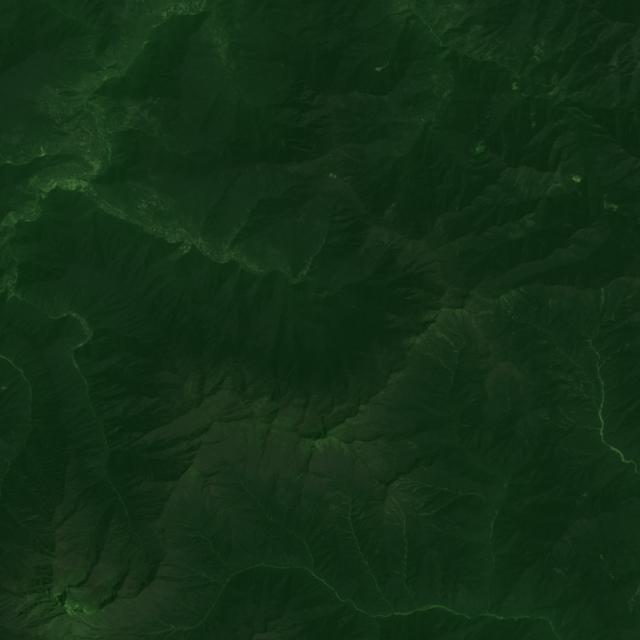landslides: (437, 313, 465, 345), (414, 489, 443, 512), (431, 322, 454, 345), (425, 353, 452, 371), (391, 496, 404, 517), (458, 399, 476, 413), (500, 295, 514, 312), (330, 503, 349, 515), (403, 494, 431, 502), (330, 507, 348, 519), (304, 275, 323, 286), (401, 483, 421, 492), (386, 510, 399, 523), (405, 438, 419, 450), (392, 508, 403, 522), (7, 212, 18, 225), (474, 144, 487, 155), (410, 499, 428, 506), (510, 289, 520, 301), (435, 223, 445, 234), (413, 436, 425, 445), (0, 154, 10, 164)
